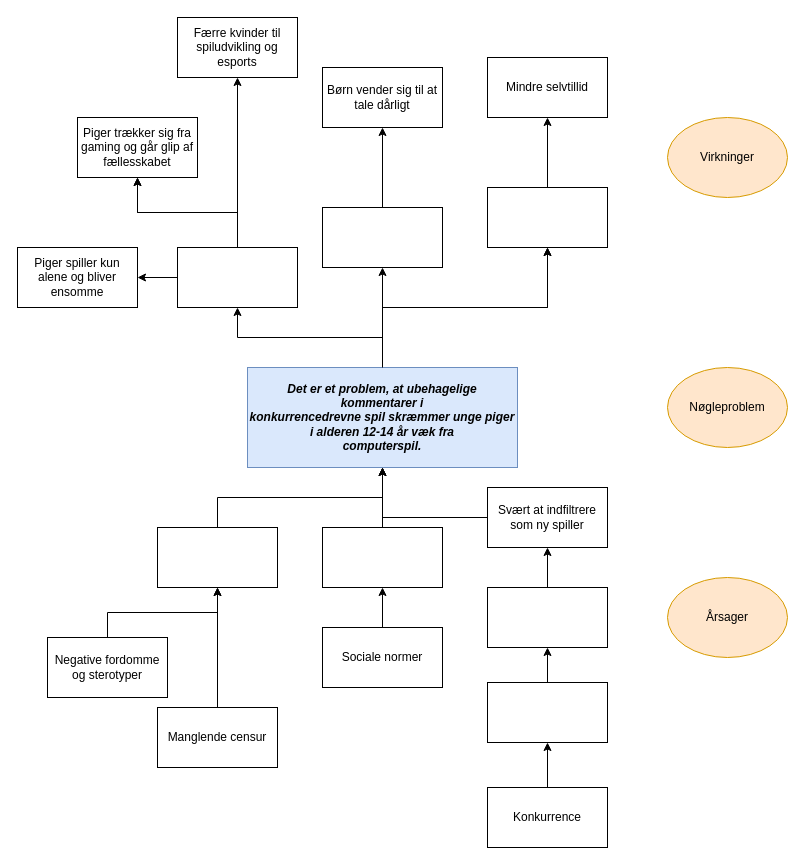
Image size: 805x865. Some labels were removed from this diagram. The shapes that lost their labels are listed below. From the top down, each one's centre as x and y in pixels, then its label:
the point at 382,237: Børn bliver negativt påvirket af dårlig adfærd i spil
the point at 547,217: Fremmer kønsopdeling i gaming
the point at 237,277: Piger tør ikke at spille online computerspil
the point at 217,557: Sexistiske og hadefulde kommentarer
the point at 382,557: Gaming ses som noget mandligt
the point at 547,617: Aggresiv adfærd
the point at 547,712: Prestationspræs
